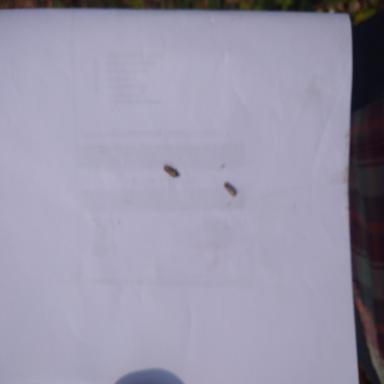pbw: (164, 164, 179, 178), (223, 183, 236, 197)
